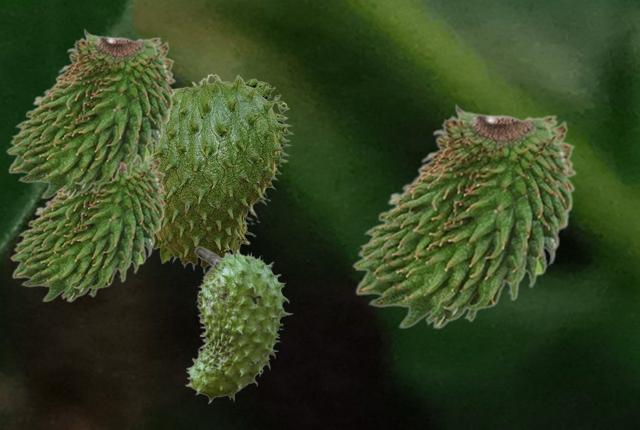guyabano: (351, 103, 576, 328), (5, 28, 175, 198), (153, 73, 293, 273), (9, 155, 166, 301), (184, 246, 292, 403)
